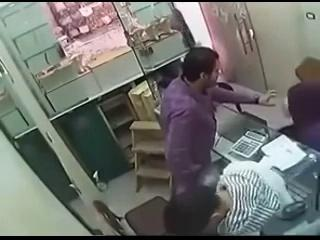Normal: (160, 47, 278, 220)
